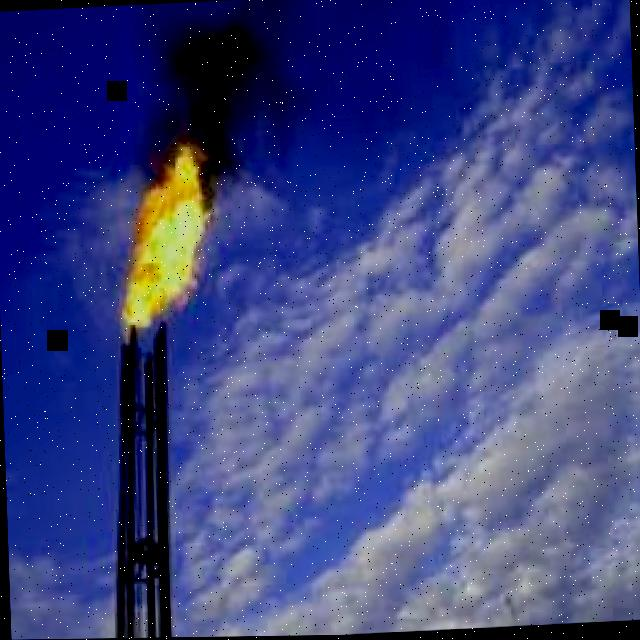fire: (116, 146, 212, 329)
smoke: (134, 3, 305, 213)
